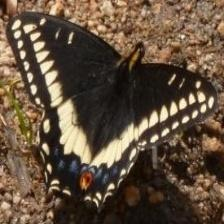butterfly: (7, 13, 218, 204)
